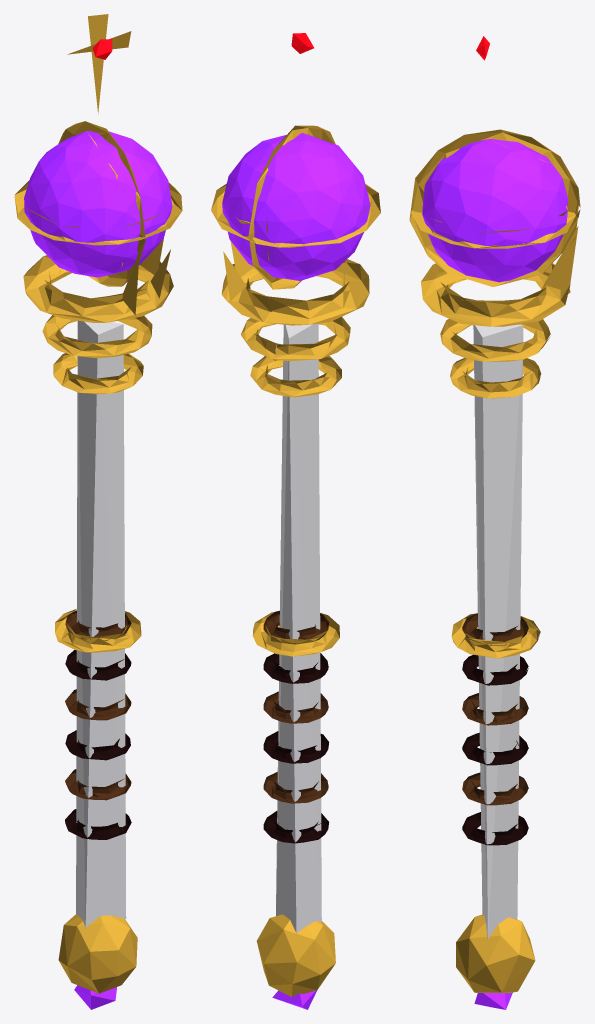
Rendered from wand_3.glb.
3 views of the same model, side by side, from view 1: azimuth 30°, elevation 25°; view 2: azimuth 150°, elevation 25°; view 3: azimuth 270°, elevation 25° (orthographic).
Visible parts, largest first — view 1: part_01, part_13, part_11, part_24, part_10, part_09, part_08, part_15, part_14, part_25, part_02, part_03 (+6 smaller); view 2: part_01, part_13, part_11, part_24, part_10, part_09, part_08, part_15, part_14, part_04, part_05, part_06 (+5 smaller); view 3: part_01, part_13, part_11, part_24, part_15, part_10, part_09, part_08, part_14, part_02, part_03, part_05 (+5 smaller).
Part boxes in pixels (<box>): part_01: <box>76,320,126,928</box>; part_13: <box>24,131,172,277</box>; part_11: <box>58,914,137,993</box>; part_24: <box>23,255,173,322</box>; part_10: <box>42,315,152,358</box>; part_09: <box>53,353,143,394</box>; part_08: <box>55,609,141,652</box>; part_15: <box>58,121,145,286</box>; part_14: <box>14,180,182,245</box>; part_25: <box>67,14,131,114</box>; part_02: <box>65,809,131,839</box>; part_03: <box>65,769,131,800</box>; part_01: <box>276,323,321,933</box>; part_13: <box>222,133,370,280</box>; part_11: <box>256,914,335,996</box>; part_24: <box>221,259,369,325</box>; part_10: <box>241,316,350,361</box>; part_09: <box>250,356,341,397</box>; part_08: <box>252,612,339,656</box>; part_15: <box>248,125,335,289</box>; part_14: <box>211,184,380,247</box>; part_04: <box>263,731,329,763</box>; part_05: <box>263,691,328,723</box>; part_06: <box>263,653,328,683</box>; part_01: <box>473,324,523,939</box>; part_13: <box>422,139,567,282</box>; part_11: <box>456,914,535,993</box>; part_24: <box>421,263,570,326</box>; part_15: <box>409,129,580,286</box>; part_10: <box>440,319,550,361</box>; part_09: <box>450,358,541,398</box>; part_08: <box>451,613,540,658</box>; part_14: <box>411,201,580,248</box>; part_02: <box>462,812,528,845</box>; part_03: <box>462,772,528,805</box>; part_05: <box>462,693,528,725</box>.
Bounding box in the file's own units: 0.1158 × 0.7456 × 0.1164.
